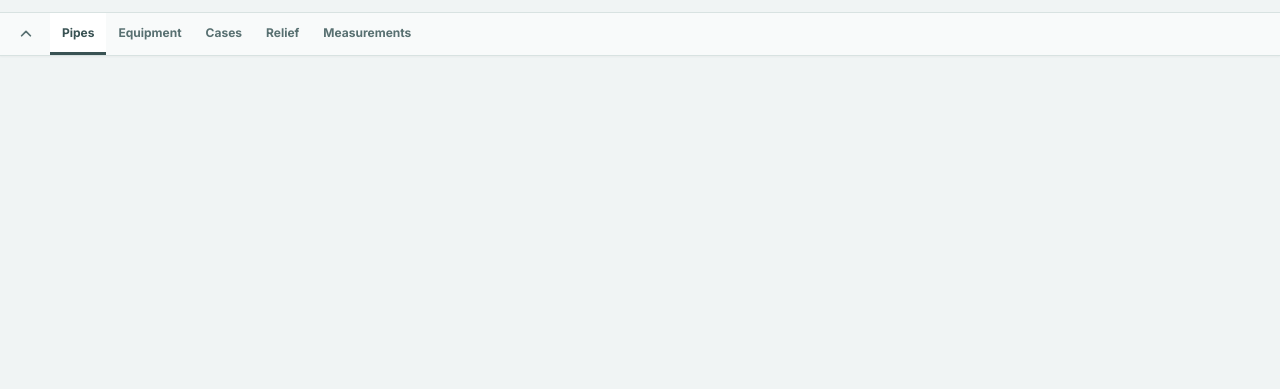
Test: collapsed data panel › a tab click when collapsed switches the tab and leaves the panel expanded
Expected: the button named "Expand data panel" is shown, [12,20,40,48]
Click the button "Measurements".
click(367, 34)  # box [311,13,423,55]
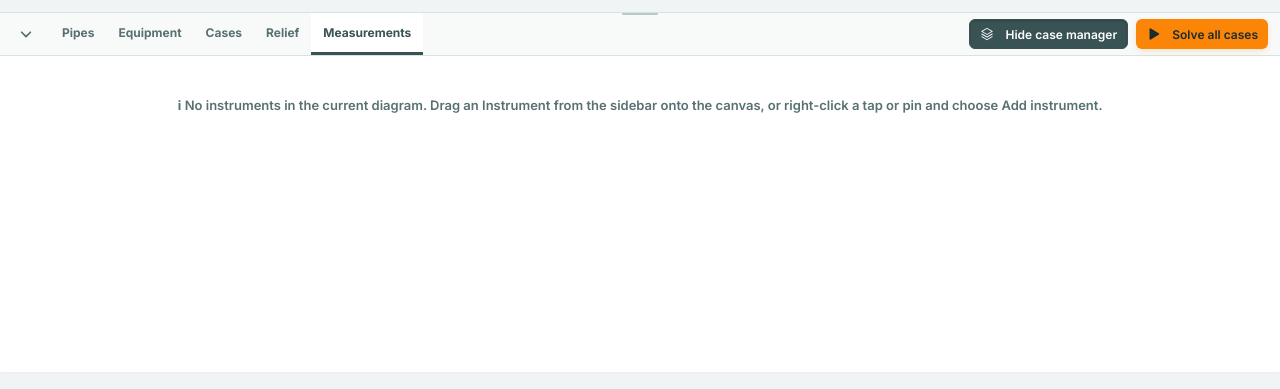
Expected: the button named "Collapse data panel" is expanded, [12,20,40,48]
